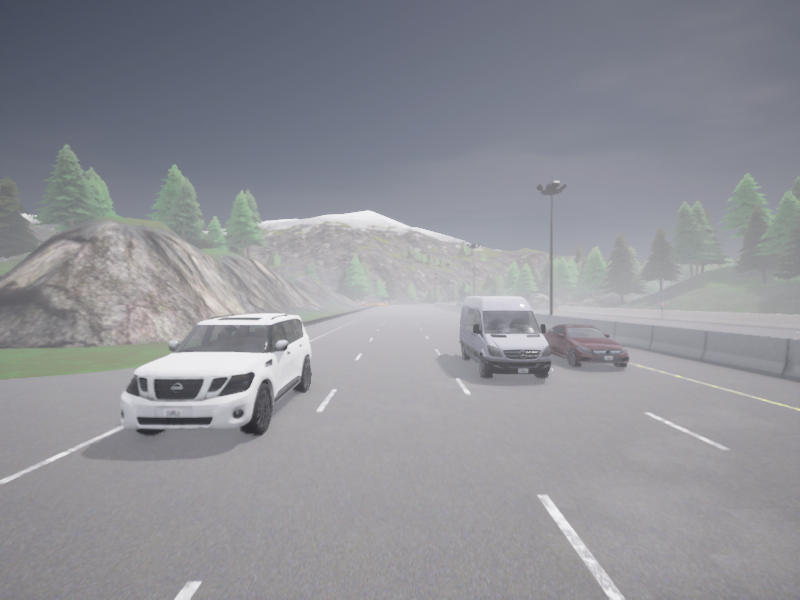vehicle: (121, 313, 311, 434), (459, 296, 550, 377), (543, 323, 628, 367), (454, 303, 461, 305)
